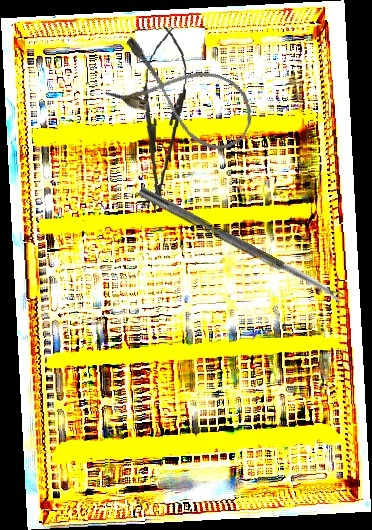Cannula: (101, 32, 264, 160)
Needle Holder: (133, 25, 192, 214)
Surgical Spoon: (136, 186, 346, 305)
